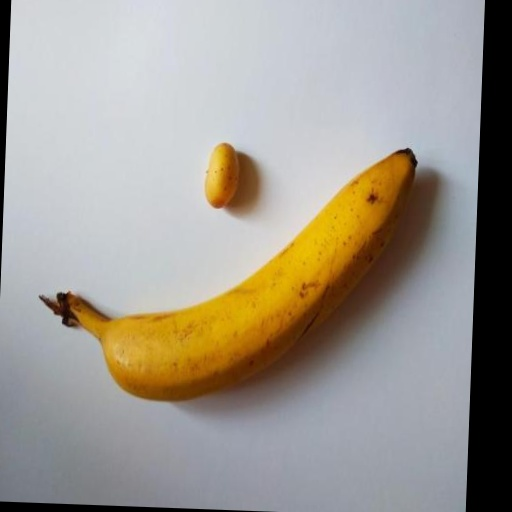fruit: (41, 149, 415, 399), (204, 143, 238, 208)
